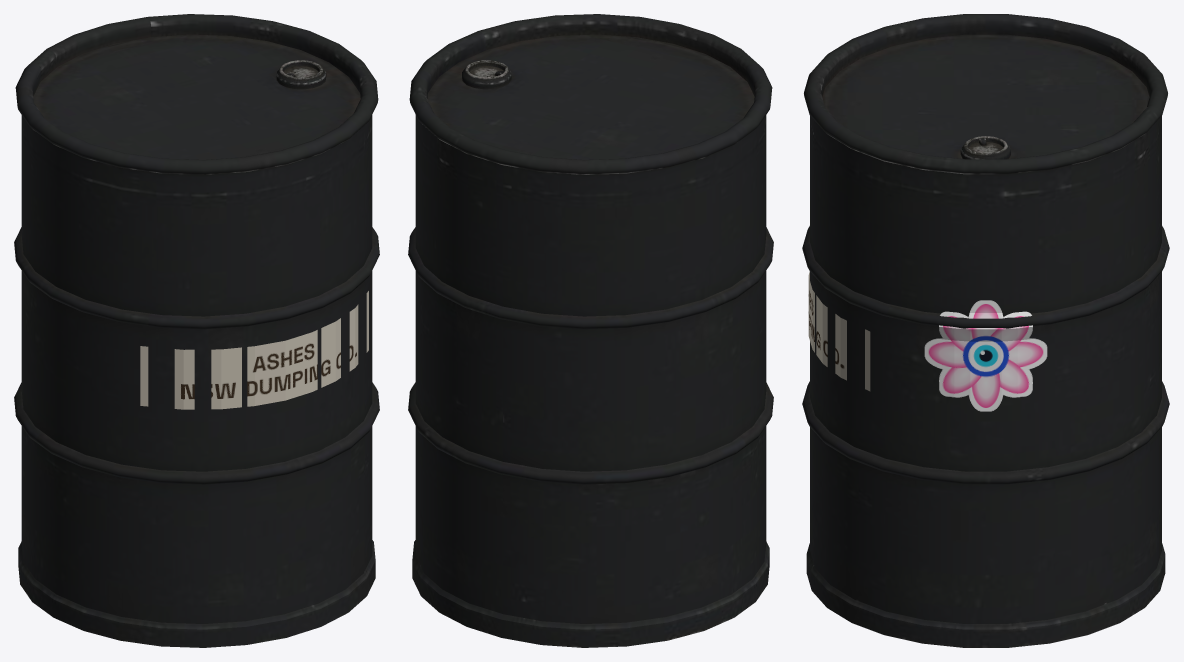
File: nyb_gatsby_drum2.glb
The picture shows the model from 3 angles, left to right: view 1: azimuth 30°, elevation 25°; view 2: azimuth 150°, elevation 25°; view 3: azimuth 270°, elevation 25°; orthographic projection.
Visible parts, largest first — view 1: barrel_03, stk_lbl_ff9e43aa14.png; view 2: barrel_03; view 3: barrel_03, stk_eyeflower_die.png, stk_lbl_ff9e43aa14.png.
Part boxes in pixels (bbox=[...]): barrel_03: bbox=[14, 14, 379, 647]; stk_lbl_ff9e43aa14.png: bbox=[140, 291, 368, 409]; barrel_03: bbox=[408, 14, 773, 647]; barrel_03: bbox=[802, 14, 1169, 647]; stk_eyeflower_die.png: bbox=[924, 300, 1047, 411]; stk_lbl_ff9e43aa14.png: bbox=[808, 271, 870, 391].
Size of the model in its own units: 0.6339 by 0.9305 by 0.6386.
3 materials, 3 textured.
